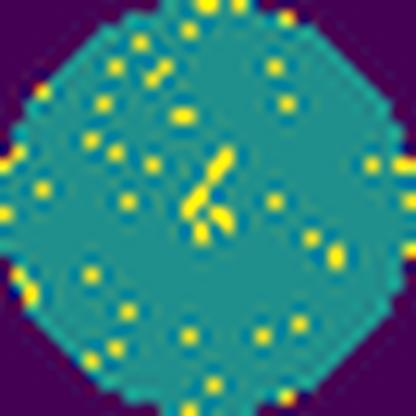Center: (185, 144, 244, 256)
